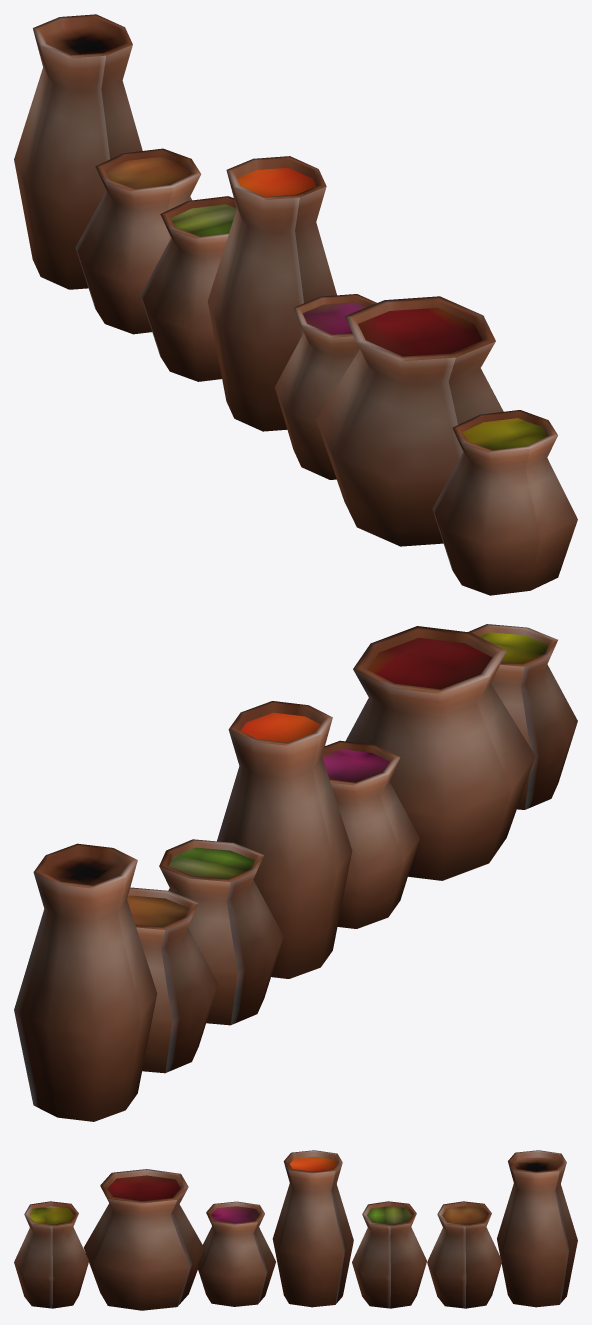
File: prop_raft_merc.dae
The picture shows the model from 3 angles, top to bottom: view 1: azimuth 30°, elevation 25°; view 2: azimuth 150°, elevation 25°; view 3: azimuth 270°, elevation 25°; orthographic projection. The views are drawn at different scales.
Parts seen in each view (by area): view 1: raft_merc; view 2: raft_merc; view 3: raft_merc.
Boxes of the visible parts, x1,y1,x2,y2 form: raft_merc: (14,14,577,595); raft_merc: (14,624,577,1121); raft_merc: (14,1150,577,1310).
Bounding box in the file's own units: 1.37 × 6.89 × 1.81.
